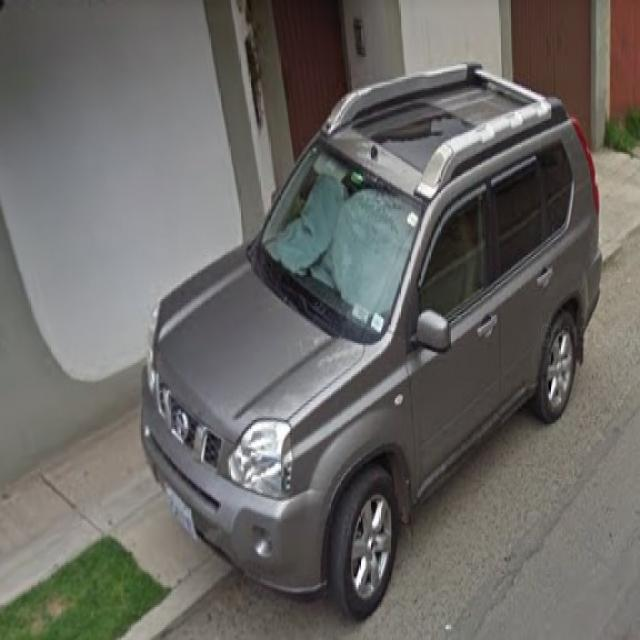cars: (137, 68, 601, 617)
